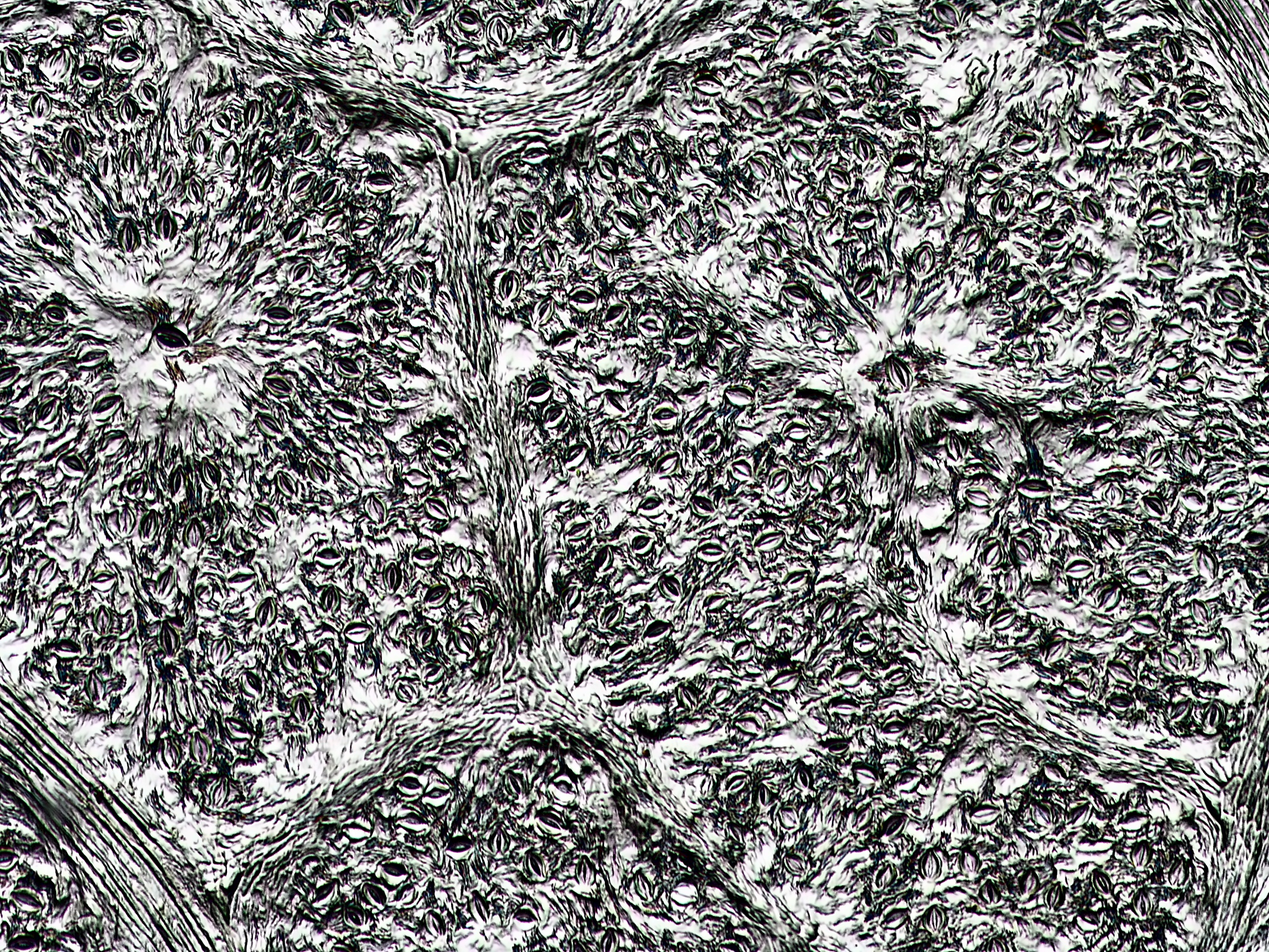stomata: (150, 323, 191, 353), (886, 351, 914, 394), (418, 779, 453, 808), (910, 240, 936, 279), (9, 888, 46, 915), (486, 15, 516, 48), (1051, 18, 1088, 44), (33, 396, 63, 428), (1125, 68, 1157, 97), (766, 667, 803, 692), (393, 807, 427, 834), (1200, 698, 1226, 733), (877, 905, 913, 930), (158, 620, 181, 659), (314, 178, 342, 210), (519, 137, 551, 165), (1180, 84, 1213, 111), (919, 846, 943, 883), (551, 18, 577, 52), (118, 217, 142, 253), (1116, 809, 1152, 833), (1102, 308, 1134, 335), (155, 207, 178, 244), (159, 733, 182, 770), (498, 269, 523, 303), (96, 429, 126, 457), (690, 72, 725, 96), (1146, 259, 1181, 283), (29, 88, 56, 119), (487, 823, 513, 855), (190, 728, 213, 764), (468, 890, 491, 926), (730, 714, 766, 737), (254, 597, 278, 631), (424, 906, 448, 940), (310, 881, 339, 909), (250, 158, 275, 190), (49, 636, 81, 661), (534, 809, 566, 834), (725, 383, 757, 408), (1198, 543, 1219, 581), (1015, 478, 1053, 499), (958, 844, 982, 877), (734, 54, 767, 78), (251, 501, 279, 529), (1066, 802, 1094, 830), (1107, 657, 1135, 685), (851, 270, 878, 299), (8, 492, 37, 519), (341, 819, 372, 844), (1160, 140, 1185, 171), (751, 530, 786, 552), (443, 837, 475, 861), (1009, 131, 1041, 155), (1214, 284, 1246, 308), (64, 127, 87, 160), (333, 355, 366, 378), (75, 346, 108, 369), (291, 172, 318, 200), (551, 773, 578, 801), (1130, 837, 1151, 873), (852, 629, 880, 656), (825, 163, 853, 190), (962, 226, 988, 255), (123, 469, 148, 499), (255, 413, 285, 438), (1064, 556, 1094, 581), (786, 68, 816, 93), (1160, 321, 1194, 343), (90, 395, 121, 419), (980, 537, 1004, 568), (932, 3, 963, 27), (1226, 337, 1257, 361), (6, 932, 43, 952), (781, 283, 813, 306), (1132, 888, 1155, 920), (970, 804, 1002, 827), (989, 186, 1010, 221), (612, 209, 639, 236), (562, 442, 589, 469), (601, 388, 628, 415), (1029, 801, 1057, 827), (638, 313, 666, 339), (526, 849, 548, 882), (569, 287, 598, 312), (328, 1, 353, 30), (33, 556, 58, 585), (894, 767, 923, 792), (365, 384, 395, 408), (182, 518, 206, 548), (46, 48, 70, 78), (363, 494, 387, 524), (224, 716, 254, 740), (1096, 583, 1120, 613), (892, 151, 922, 175), (1109, 176, 1139, 200), (86, 569, 117, 592), (635, 869, 657, 901), (245, 210, 270, 238), (85, 670, 105, 705), (383, 560, 403, 595), (577, 853, 597, 888), (675, 682, 700, 710), (741, 95, 769, 120), (873, 22, 898, 50), (1101, 480, 1126, 508), (32, 147, 56, 176), (834, 664, 863, 688), (331, 318, 364, 339), (1131, 613, 1161, 636), (1012, 535, 1035, 565), (211, 773, 230, 809), (523, 379, 554, 401), (325, 397, 356, 419), (226, 569, 257, 591), (292, 694, 314, 725), (818, 6, 852, 26), (102, 14, 129, 39), (425, 497, 452, 522), (672, 880, 699, 905), (881, 813, 906, 840), (654, 452, 679, 479), (1042, 636, 1067, 663), (1005, 280, 1032, 305), (592, 244, 616, 272), (122, 143, 143, 175), (296, 130, 320, 158), (364, 172, 396, 193), (209, 636, 233, 664), (428, 438, 460, 459), (1089, 869, 1113, 897), (1019, 866, 1040, 898), (1160, 34, 1184, 62), (1136, 119, 1164, 143), (963, 485, 991, 509), (531, 296, 554, 325), (379, 859, 408, 882), (714, 198, 737, 227), (869, 68, 892, 97), (1088, 413, 1117, 436), (394, 332, 424, 354), (90, 605, 112, 635), (241, 668, 263, 698), (118, 93, 139, 124), (924, 903, 945, 934), (394, 677, 419, 703), (421, 662, 447, 687), (360, 882, 385, 908), (394, 882, 419, 908), (599, 602, 624, 628), (790, 136, 816, 161), (893, 187, 917, 214), (652, 405, 679, 429), (456, 6, 480, 33), (454, 628, 478, 655), (1073, 908, 1100, 932), (644, 619, 671, 643), (689, 493, 716, 517), (899, 108, 926, 132), (1069, 252, 1096, 276), (140, 507, 159, 541), (307, 457, 330, 485), (274, 469, 297, 497), (594, 152, 617, 180), (1189, 154, 1217, 177), (220, 140, 240, 172), (281, 645, 303, 674), (783, 419, 812, 441), (186, 177, 207, 207), (157, 565, 175, 600), (400, 468, 435, 486), (344, 622, 374, 643), (874, 860, 895, 890), (611, 422, 632, 452), (1085, 128, 1115, 149), (1217, 491, 1247, 512), (1046, 879, 1065, 912), (828, 696, 861, 715), (747, 23, 780, 42), (1143, 494, 1168, 519), (78, 64, 104, 88), (114, 45, 140, 69), (284, 218, 308, 244), (424, 584, 450, 608), (765, 469, 791, 493), (1105, 525, 1129, 551), (31, 226, 58, 249), (342, 901, 365, 928), (512, 908, 539, 931), (659, 574, 682, 601), (1170, 696, 1193, 723), (1235, 173, 1258, 200), (1030, 188, 1053, 215), (503, 769, 525, 797), (638, 496, 666, 518), (817, 597, 839, 625), (1106, 692, 1134, 714), (262, 305, 291, 326), (1181, 440, 1202, 469), (321, 584, 340, 616), (1169, 855, 1188, 887), (1191, 595, 1210, 627), (946, 427, 965, 459), (289, 260, 314, 284), (351, 266, 376, 290), (881, 719, 911, 739), (542, 404, 566, 429), (1039, 230, 1069, 250), (1245, 250, 1269, 275), (1176, 373, 1206, 393), (757, 235, 780, 261), (396, 773, 422, 796), (598, 926, 621, 952), (783, 851, 806, 877), (170, 464, 187, 499), (202, 456, 220, 489), (117, 503, 135, 536), (315, 547, 342, 569), (671, 324, 698, 346), (474, 588, 493, 619), (1083, 193, 1102, 224), (1060, 391, 1091, 410), (406, 265, 427, 293), (519, 207, 540, 235), (450, 547, 471, 575), (564, 520, 592, 541), (987, 248, 1008, 276), (1241, 218, 1269, 239), (244, 98, 264, 127), (884, 668, 913, 688), (697, 542, 726, 562), (647, 149, 667, 178), (804, 517, 828, 541), (724, 771, 747, 796), (698, 430, 723, 453), (1129, 565, 1154, 588), (42, 303, 68, 325), (1042, 761, 1068, 783), (852, 764, 878, 786), (783, 569, 809, 591), (631, 183, 653, 209), (595, 543, 614, 573), (1062, 677, 1092, 696), (678, 213, 697, 243), (60, 453, 87, 474), (138, 78, 159, 105), (717, 330, 744, 351), (980, 878, 1000, 906), (702, 593, 730, 613), (1090, 363, 1118, 383), (311, 651, 335, 674), (731, 637, 754, 661), (885, 539, 904, 568), (1144, 207, 1173, 226), (266, 375, 291, 397), (415, 623, 437, 648), (711, 682, 733, 707), (896, 581, 921, 603), (989, 608, 1014, 630), (1039, 305, 1064, 327), (1180, 489, 1206, 510), (540, 241, 560, 268), (854, 136, 874, 163), (976, 160, 1003, 180), (371, 298, 399, 317), (729, 458, 753, 480), (749, 156, 771, 180), (161, 162, 178, 193), (1008, 342, 1037, 360), (809, 462, 829, 488), (1211, 421, 1237, 441), (854, 805, 873, 832), (4, 48, 25, 72), (701, 137, 725, 158), (350, 216, 375, 236), (212, 111, 231, 137), (607, 643, 633, 662), (552, 332, 579, 350), (554, 200, 577, 221), (776, 807, 799, 828), (604, 303, 627, 324), (811, 323, 834, 344), (98, 150, 114, 180), (192, 129, 208, 159), (413, 548, 439, 566), (926, 717, 944, 743), (322, 211, 343, 233), (630, 129, 651, 151), (825, 87, 850, 105), (632, 534, 653, 555), (0, 415, 20, 437), (0, 366, 20, 388), (1147, 446, 1167, 468), (852, 211, 875, 230), (195, 579, 214, 602), (1154, 355, 1185, 369), (794, 767, 812, 791), (0, 846, 17, 871), (755, 782, 772, 807), (275, 88, 295, 109), (984, 935, 1008, 952), (827, 738, 852, 754), (1253, 461, 1269, 486), (974, 583, 993, 604), (814, 196, 832, 218), (1162, 648, 1179, 671), (702, 773, 717, 795), (1255, 590, 1269, 613), (396, 0, 417, 14), (0, 304, 13, 326), (531, 0, 546, 8)
